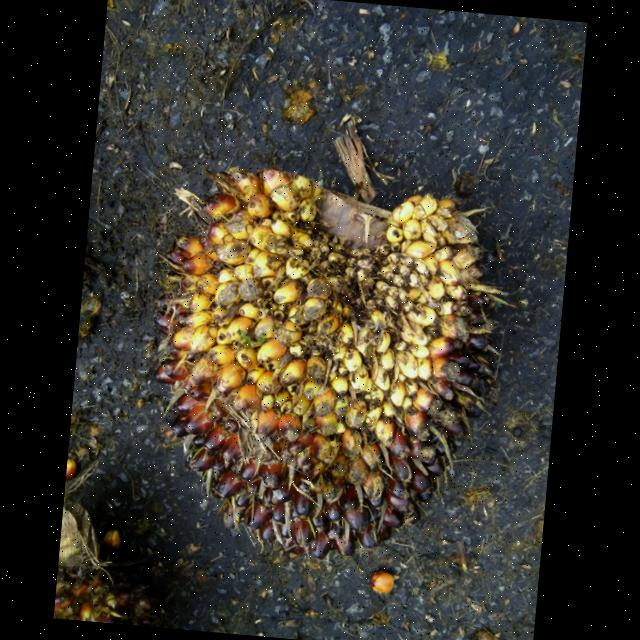Unripe: (152, 165, 496, 557)
